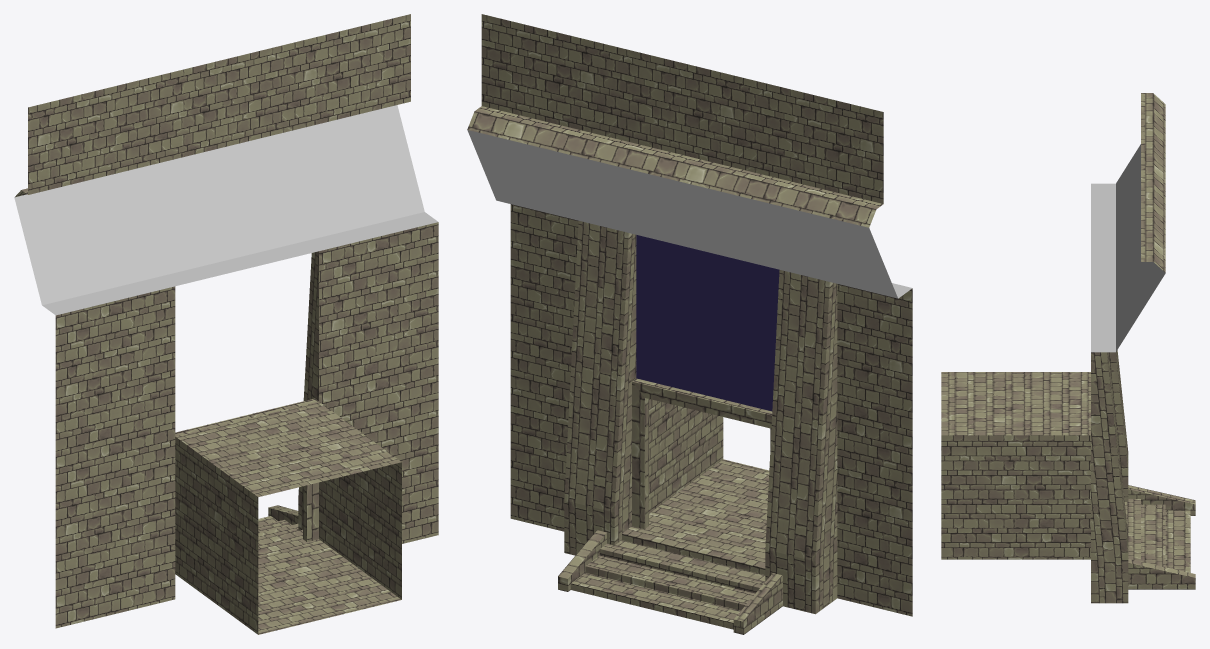
Rendered from Hub_EndgameDoor.FBX.
The picture shows the model from 3 angles, left to right: view 1: azimuth 30°, elevation 25°; view 2: azimuth 150°, elevation 25°; view 3: azimuth 270°, elevation 25°; orthographic projection. The views are drawn at different scales.
Visible parts, largest first — view 1: Hub_EndgameDoor; view 2: Hub_EndgameDoor; view 3: Hub_EndgameDoor.
Boxes of the visible parts, bbox=[...] form: Hub_EndgameDoor: bbox=[14, 14, 438, 634]; Hub_EndgameDoor: bbox=[467, 14, 912, 634]; Hub_EndgameDoor: bbox=[941, 93, 1195, 603].
Bounding box in the file's own units: 16 × 20 × 10.2.
